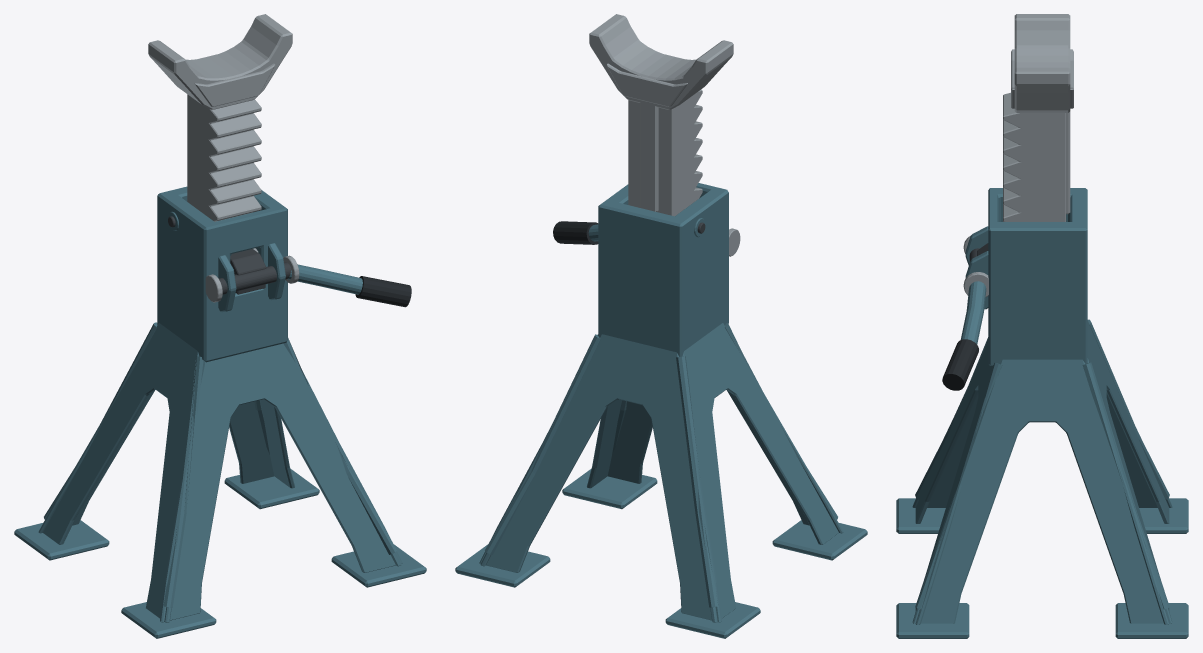
3 renders of one model, left to right at view 1: azimuth 30°, elevation 25°; view 2: azimuth 150°, elevation 25°; view 3: azimuth 270°, elevation 25°, orthographic. The views are drawn at different scales.
Parts seen in each view (by area): view 1: Splayed_frame_Y-1, Ratchet_sleeve, Splayed_frame_X-1, Forged_toothed_post, Concave_saddle, Splayed_frame_Y1, Foot_plate_-1_1, Foot_plate_1_1, Splayed_frame_X1, Foot_plate_1_-1, Saddle_gusset_-1, Foot_plate_-1_-1 (+8 smaller); view 2: Splayed_frame_Y1, Ratchet_sleeve, Splayed_frame_X-1, Forged_toothed_post, Concave_saddle, Splayed_frame_Y-1, Corner_fold_-1_1, Post_rear_spine, Foot_plate_-1_-1, Foot_plate_1_-1, Corner_fold_1_1, Splayed_frame_X1 (+4 smaller); view 3: Splayed_frame_X1, Ratchet_sleeve, Forged_toothed_post, Concave_saddle, Splayed_frame_Y-1, Splayed_frame_Y1, Splayed_frame_X-1, Foot_plate_1_-1, Foot_plate_1_1, Corner_fold_1_1, Foot_plate_-1_-1, Foot_plate_-1_1 (+8 smaller).
Part boxes in pixels (bbox=[...]): Splayed_frame_Y-1: bbox=[160, 343, 402, 622]; Ratchet_sleeve: bbox=[157, 186, 287, 362]; Splayed_frame_X-1: bbox=[43, 323, 199, 622]; Forged_toothed_post: bbox=[187, 94, 261, 252]; Concave_saddle: bbox=[148, 14, 292, 109]; Splayed_frame_Y1: bbox=[38, 390, 274, 533]; Foot_plate_-1_1: bbox=[14, 520, 109, 560]; Foot_plate_1_1: bbox=[224, 468, 319, 509]; Splayed_frame_X1: bbox=[260, 370, 401, 566]; Foot_plate_1_-1: bbox=[331, 544, 426, 587]; Saddle_gusset_-1: bbox=[194, 63, 275, 106]; Foot_plate_-1_-1: bbox=[121, 602, 216, 638]; Splayed_frame_Y1: bbox=[479, 334, 721, 622]; Ratchet_sleeve: bbox=[598, 183, 728, 356]; Splayed_frame_X-1: bbox=[682, 323, 838, 622]; Forged_toothed_post: bbox=[628, 89, 702, 216]; Concave_saddle: bbox=[589, 14, 733, 109]; Splayed_frame_Y-1: bbox=[607, 390, 843, 533]; Corner_fold_-1_1: bbox=[676, 356, 718, 607]; Post_rear_spine: bbox=[640, 100, 658, 211]; Foot_plate_-1_-1: bbox=[772, 520, 867, 560]; Foot_plate_1_-1: bbox=[562, 468, 657, 509]; Corner_fold_1_1: bbox=[485, 334, 600, 554]; Splayed_frame_X1: bbox=[480, 334, 622, 566]; Splayed_frame_X1: bbox=[912, 359, 1172, 623]; Ratchet_sleeve: bbox=[988, 188, 1087, 365]; Forged_toothed_post: bbox=[1003, 92, 1065, 221]; Concave_saddle: bbox=[1014, 14, 1070, 112]; Splayed_frame_Y-1: bbox=[915, 341, 992, 624]; Splayed_frame_Y1: bbox=[1087, 321, 1169, 624]; Splayed_frame_X-1: bbox=[912, 393, 1172, 507]; Foot_plate_1_-1: bbox=[896, 603, 969, 638]; Foot_plate_1_1: bbox=[1115, 603, 1188, 638]; Corner_fold_1_1: bbox=[1082, 362, 1169, 609]; Foot_plate_-1_-1: bbox=[896, 498, 945, 533]; Foot_plate_-1_1: bbox=[1139, 498, 1188, 533].
Size of the model in its own units: 0.2293 by 0.4 by 0.2.
